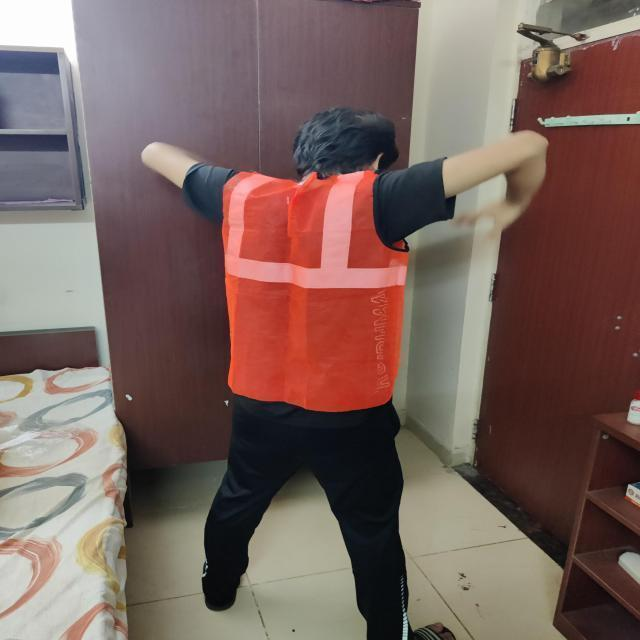no-helmet: (295, 99, 399, 178)
vest: (216, 164, 406, 412)
